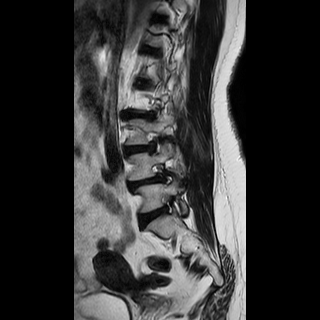RFS3: (149, 156, 174, 189)
